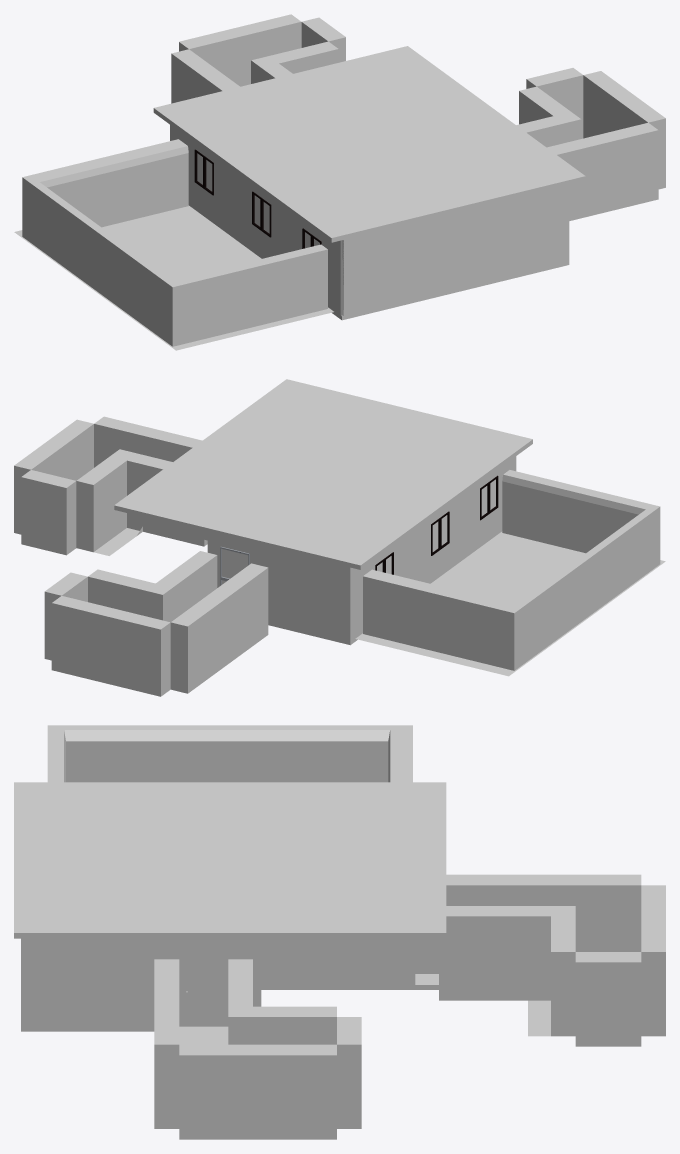
Rendered from exp23.fbx.
3 renders of one model, top to bottom at view 1: azimuth 30°, elevation 25°; view 2: azimuth 150°, elevation 25°; view 3: azimuth 270°, elevation 25°, orthographic. The views are drawn at different scales.
Parts seen in each view (by area): view 1: soffitta, SiepeXL, Pareti, Prato, Cube, Cube.006, Cube.003, Cube.009, Cube.002, Cube.007, Cube.004, parche (+2 smaller); view 2: soffitta, SiepeXL, Pareti, Cube.006, Cube.009, Prato, Cube.004, Cube.002, Cube.003, Cube, Cube.007, Cube.008 (+4 smaller); view 3: soffitta, Pareti, SiepeXL, Cube.003, Cube.008, Cube.009, Cube.005, Cube, Cube.002, Cube.006, Cube.007, PortaSalotto (+6 smaller).
Part boxes in pixels (<box>): soffitta: <box>153,46,585,242</box>; SiepeXL: <box>22,139,327,346</box>; Pareti: <box>170,125,569,315</box>; Prato: <box>14,205,333,350</box>; Cube: <box>547,122,658,220</box>; Cube.006: <box>179,14,301,86</box>; Cube.003: <box>583,71,665,189</box>; Cube.009: <box>171,49,239,103</box>; Cube.002: <box>519,86,581,142</box>; Cube.007: <box>251,41,338,83</box>; Cube.004: <box>526,68,583,138</box>; parche: <box>243,244,569,320</box>; soffitta: <box>114,379,532,569</box>; SiepeXL: <box>363,470,660,670</box>; Pareti: <box>201,456,516,641</box>; Cube.006: <box>51,596,170,696</box>; Cube.009: <box>170,563,268,693</box>; Prato: <box>355,531,665,676</box>; Cube.004: <box>21,470,76,555</box>; Cube.002: <box>76,449,136,552</box>; Cube.003: <box>14,419,93,534</box>; Cube: <box>94,416,202,467</box>; Cube.007: <box>88,569,172,622</box>; Cube.008: <box>156,551,217,620</box>; soffitta: <box>14,782,446,938</box>; Pareti: <box>21,938,438,1026</box>; SiepeXL: <box>47,725,412,782</box>; Cube.003: <box>179,1044,336,1139</box>; Cube.008: <box>439,906,550,1000</box>; Cube.009: <box>446,874,641,951</box>; Cube.005: <box>575,952,641,1046</box>; Cube: <box>154,959,179,1128</box>; Cube.002: <box>228,1006,336,1044</box>; Cube.006: <box>641,885,665,1036</box>; Cube.007: <box>551,906,575,1036</box>; PortaSalotto: <box>182,954,224,1026</box>.
Size of the model in its own units: 1929 by 328 by 1634.
